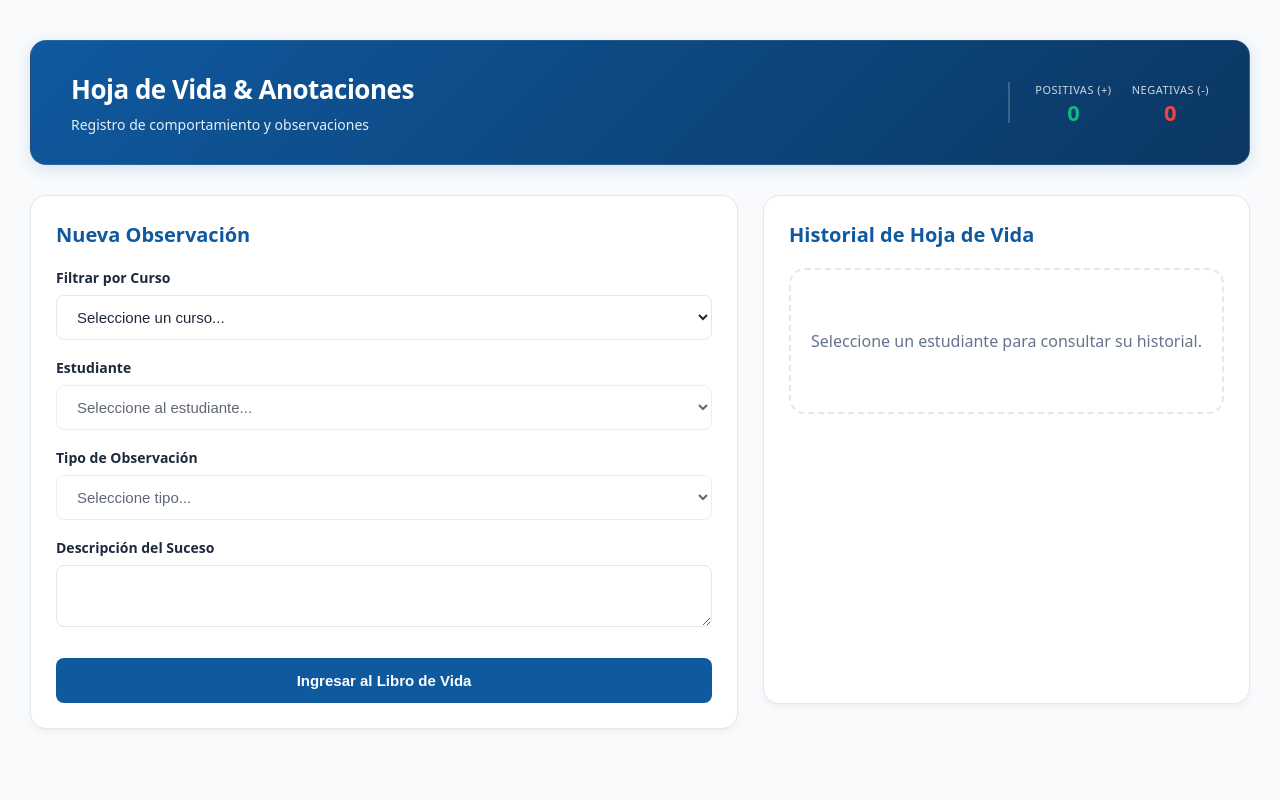
Scenario: Anotaciones › debe mostrar un error cuando falla el registro de la anotación
Select "1°A" in the dropdown below "Filtrar por Curso" at [384, 318], box left=56, top=295, right=712, bottom=340
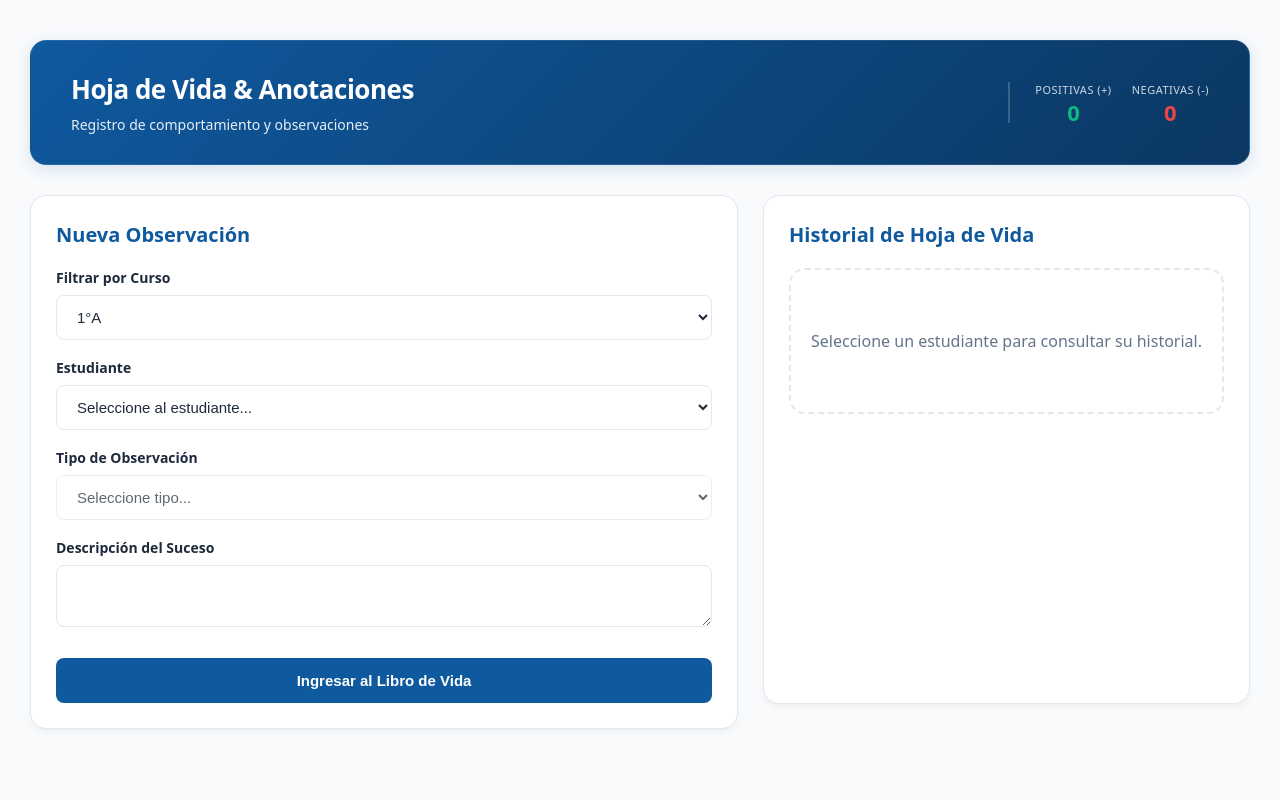
Select "Pérez, Juan" in the 2nd dropdown at [384, 408], box left=56, top=385, right=712, bottom=430
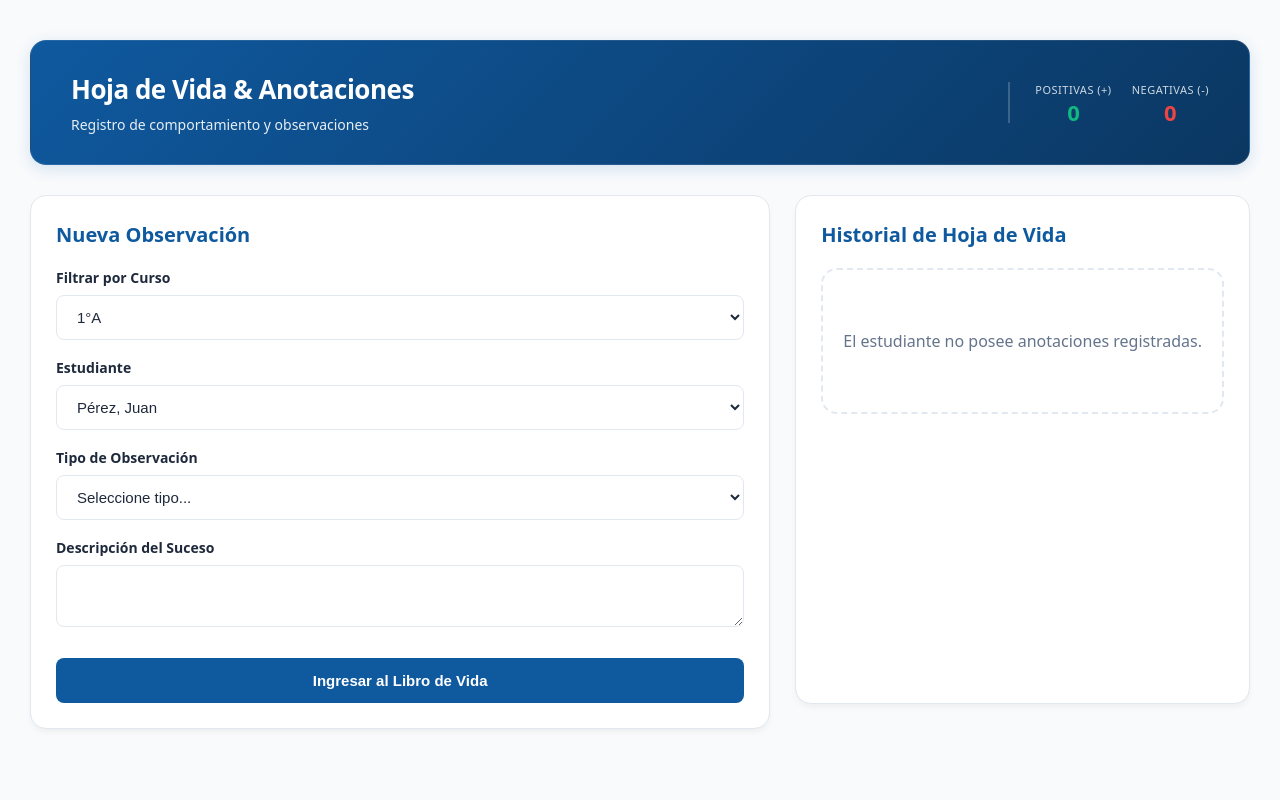
Select "Negativa" in the dropdown below "Tipo de Observación" at [400, 498], box left=56, top=475, right=744, bottom=520
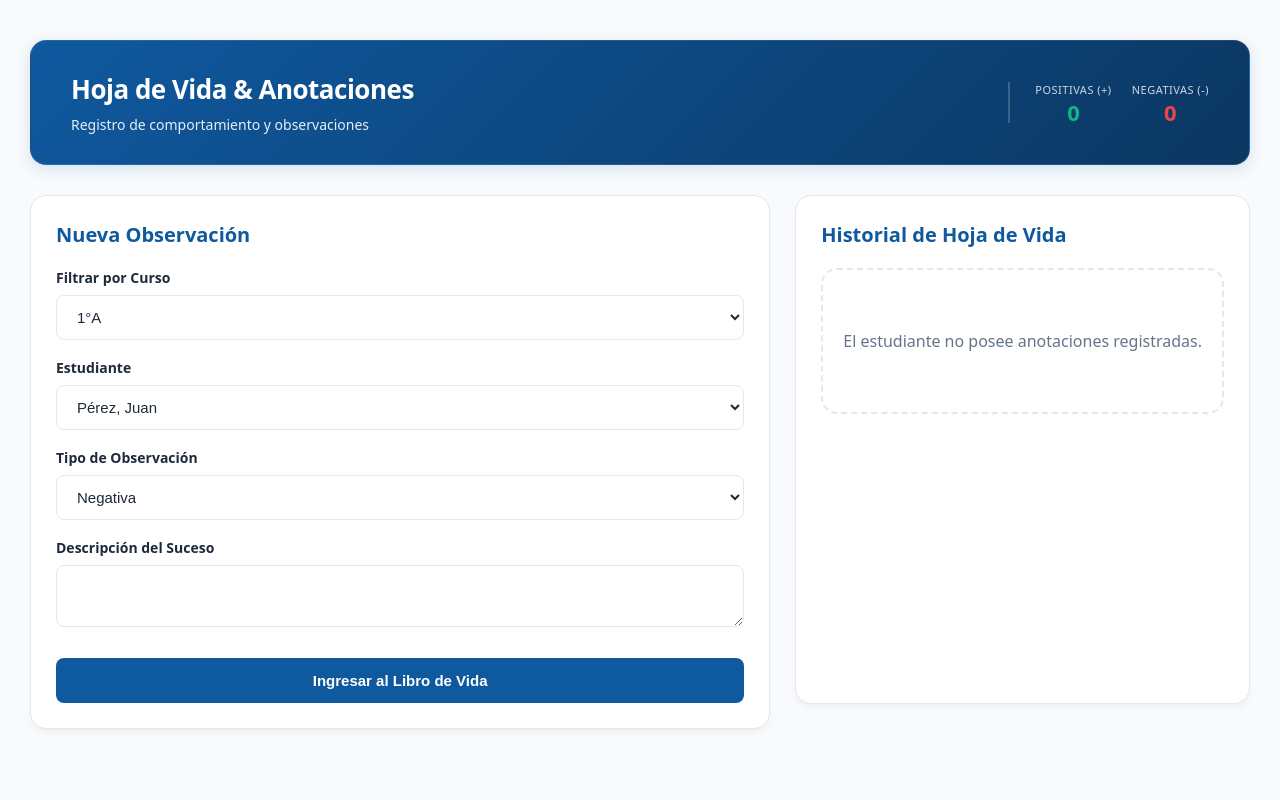
Type "Conducta inadecuada" into the text box named "Descripción del Suceso" at [400, 596], box left=56, top=565, right=744, bottom=627
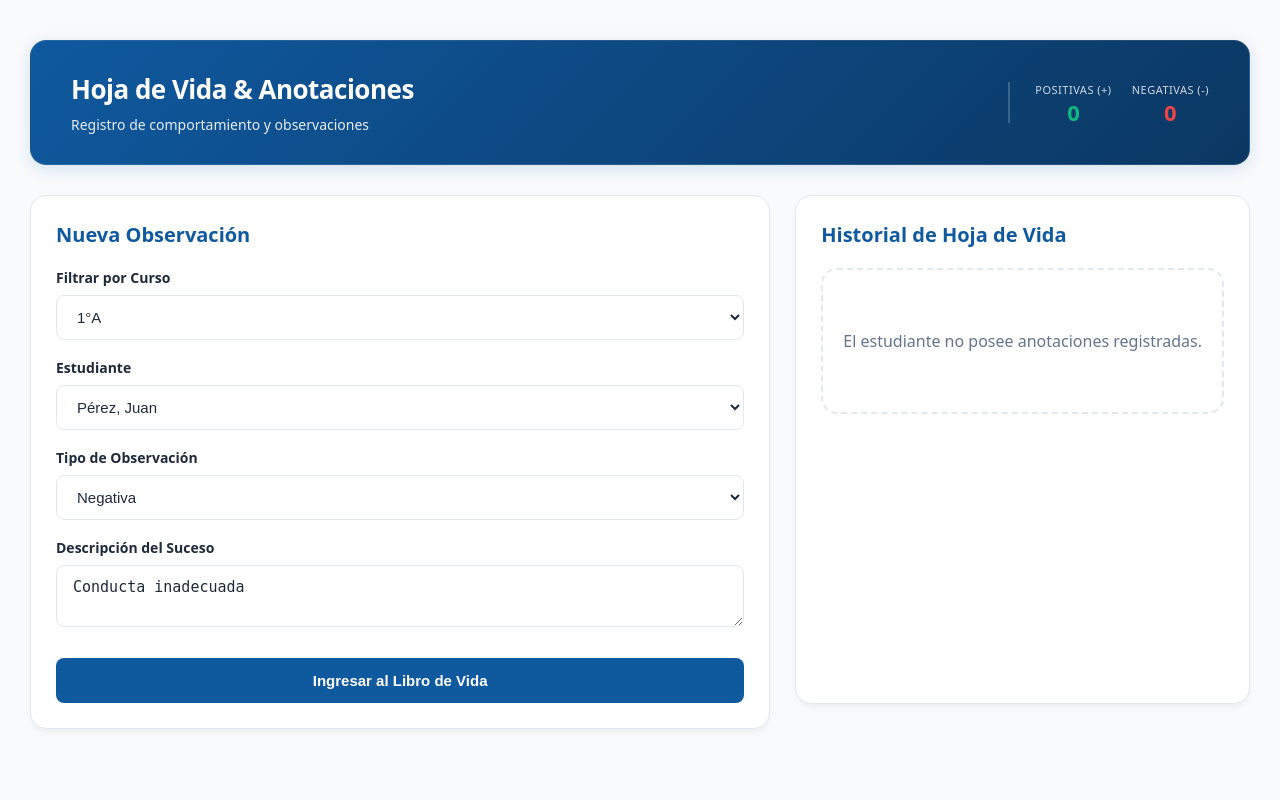
Click the button "Ingresar al Libro de Vida" at [400, 680], box left=56, top=658, right=744, bottom=703
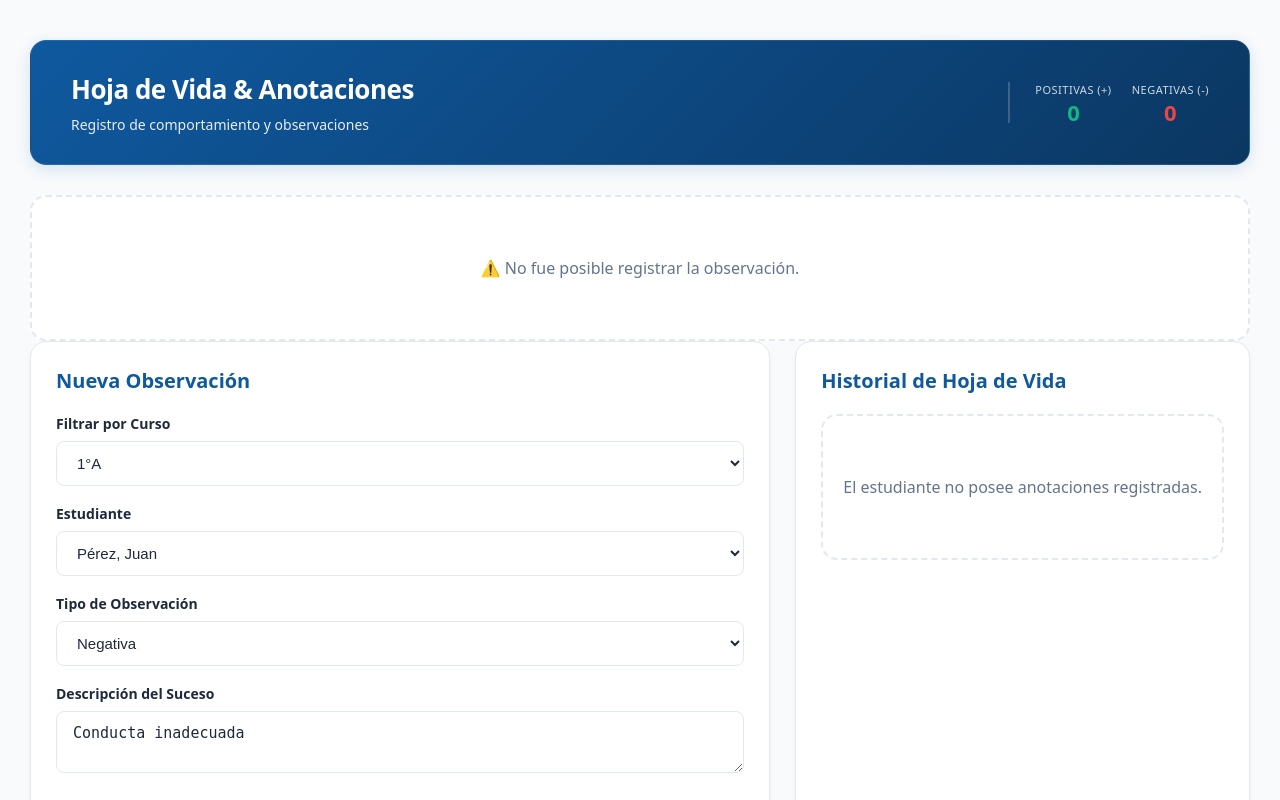
Expected: the text "⚠️ No fue posible registrar la observación." is shown, left=30, top=195, right=1250, bottom=341
